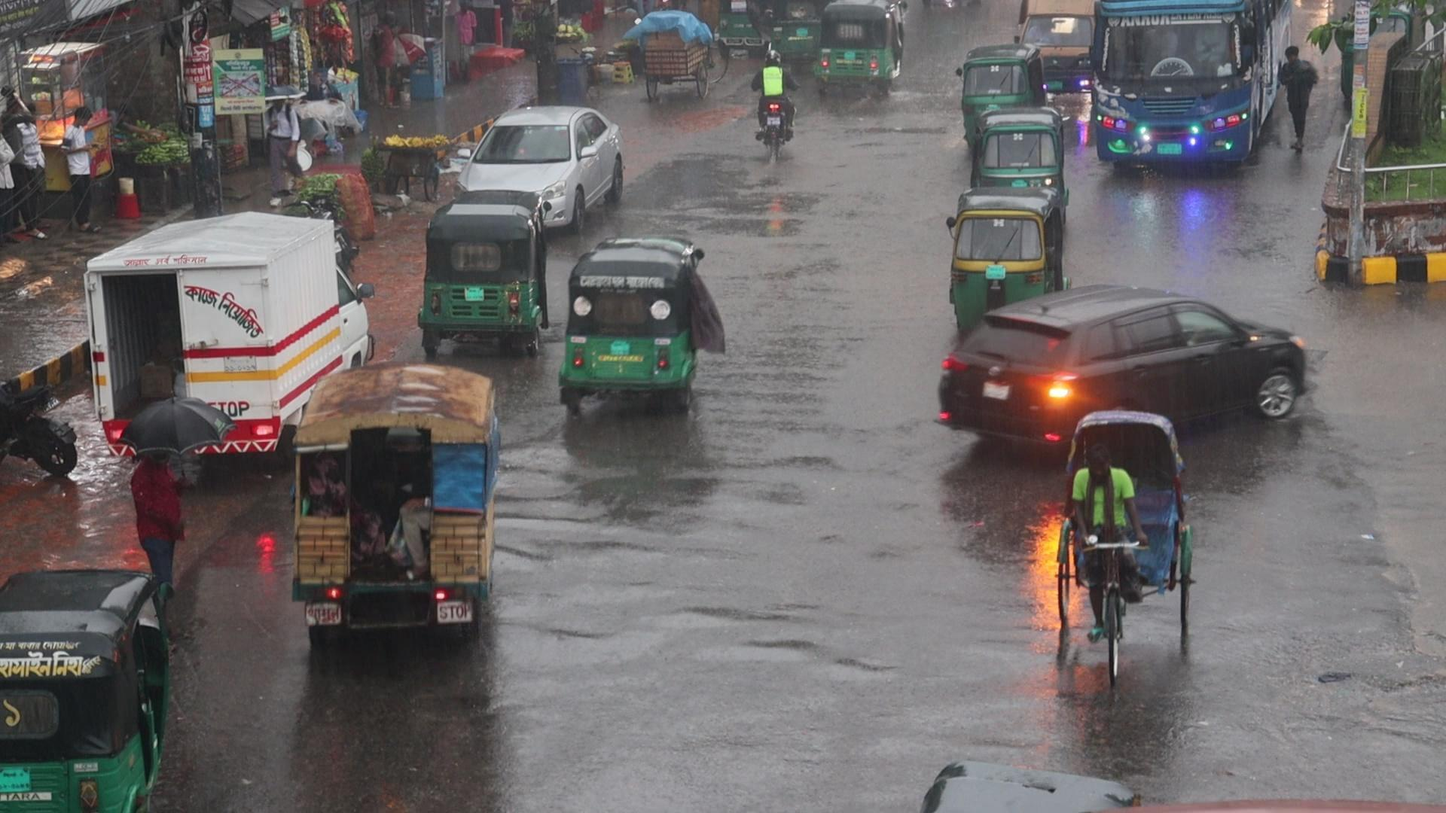Bike: (749, 46, 801, 163)
Car: (936, 278, 1310, 440)
Truck: (288, 358, 502, 643)
